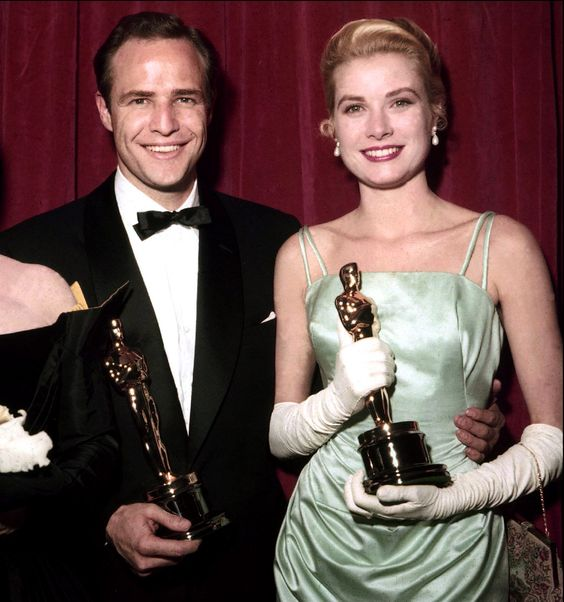hand: (98, 510, 193, 577)
